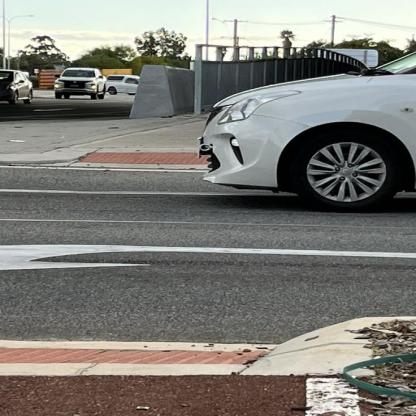Tire: (289, 130, 400, 212)
